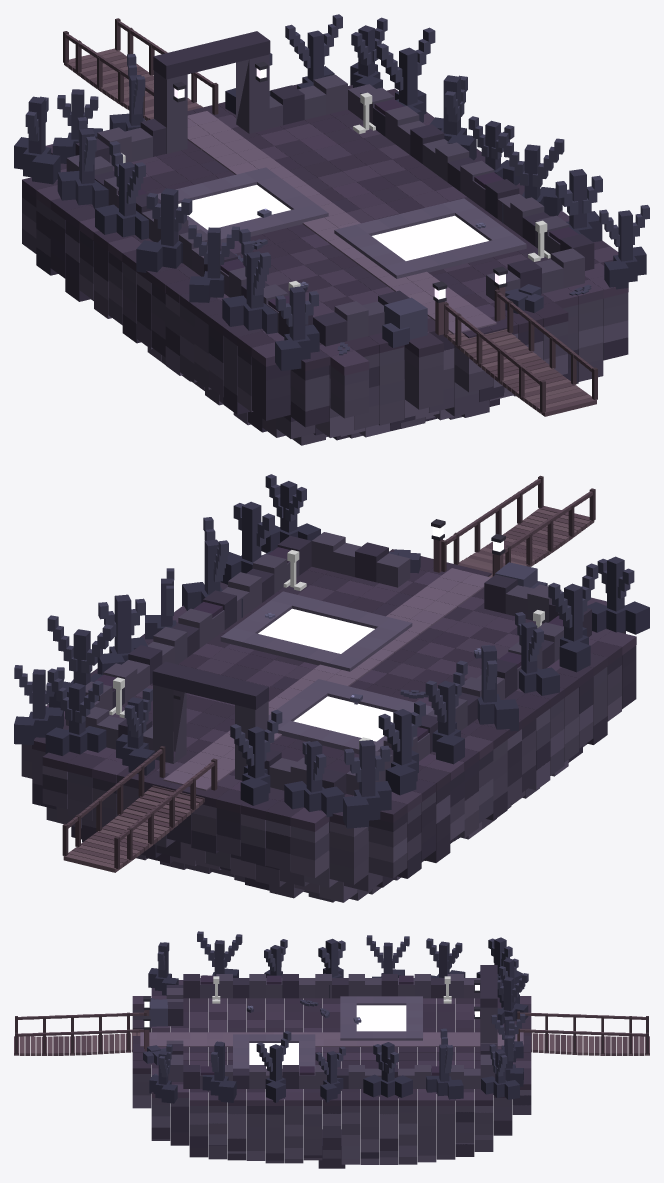
File: room_pools_polluted.glb
3 renders of one model, top to bottom at view 1: azimuth 30°, elevation 25°; view 2: azimuth 150°, elevation 25°; view 3: azimuth 270°, elevation 25°, orthographic. The views are drawn at different scales.
Parts seen in each view (by area): view 1: room_pools_blocks, tree2_(0, 0).001, tree0_(0, 0).002, tree2_(0, 0).002, tree0_(0, 0).001, tree1_(0, 0).001, tree5_(0, 0).001, tree0_(0, 0).003, tree5_(0, 0).002, tree4_(0, 0).002, tree4_(0, 0).001, tree3_(0, 0).001 (+8 smaller); view 2: room_pools_blocks, tree5_(0, 0).003, tree0_(0, 0).003, tree2_(0, 0).001, tree0_(0, 0).001, tree4_(0, 0).002, tree2_(0, 0).003, tree2_(0, 0).002, tree1_(0, 0).003, tree0_(0, 0).004, tree5_(0, 0).002, tree3_(0, 0).002 (+8 smaller); view 3: room_pools_blocks, tree3_(0, 0).002, tree5_(0, 0).001, tree5_(0, 0).002, tree3_(0, 0).001, tree1_(0, 0).003, tree2_(0, 0).003, tree1_(0, 0).002, tree2_(0, 0).001, tree1_(0, 0).001, tree2_(0, 0).002, tree4_(0, 0).002 (+8 smaller).
Boxes of the visible parts, <box> form: room_pools_blocks: <box>22,18,628,445</box>; tree2_(0, 0).001: <box>222,228,277,334</box>; tree0_(0, 0).002: <box>136,188,192,272</box>; tree2_(0, 0).002: <box>95,141,148,239</box>; tree0_(0, 0).001: <box>275,286,319,370</box>; tree1_(0, 0).001: <box>599,205,649,289</box>; tree5_(0, 0).001: <box>498,132,564,223</box>; tree0_(0, 0).003: <box>14,96,60,184</box>; tree5_(0, 0).002: <box>376,27,435,122</box>; tree4_(0, 0).002: <box>57,117,108,209</box>; tree4_(0, 0).001: <box>188,225,239,302</box>; tree3_(0, 0).001: <box>555,169,602,241</box>; room_pools_blocks: <box>21,475,636,902</box>; tree5_(0, 0).003: <box>45,668,106,755</box>; tree0_(0, 0).003: <box>343,740,391,828</box>; tree2_(0, 0).001: <box>548,563,598,672</box>; tree0_(0, 0).001: <box>587,556,649,634</box>; tree4_(0, 0).002: <box>378,701,425,795</box>; tree2_(0, 0).003: <box>230,709,282,805</box>; tree2_(0, 0).002: <box>425,660,467,764</box>; tree1_(0, 0).003: <box>14,665,64,744</box>; tree0_(0, 0).004: <box>284,741,344,817</box>; tree5_(0, 0).002: <box>47,615,113,711</box>; tree3_(0, 0).002: <box>97,594,147,674</box>; room_pools_blocks: <box>14,965,649,1168</box>; tree3_(0, 0).002: <box>363,1042,412,1097</box>; tree5_(0, 0).001: <box>256,1031,291,1102</box>; tree5_(0, 0).002: <box>426,1028,463,1100</box>; tree3_(0, 0).001: <box>202,1041,236,1102</box>; tree1_(0, 0).003: <box>481,1044,519,1099</box>; tree2_(0, 0).003: <box>497,973,528,1025</box>; tree1_(0, 0).002: <box>315,1046,345,1102</box>; tree2_(0, 0).001: <box>197,931,242,977</box>; tree1_(0, 0).001: <box>149,1044,177,1103</box>; tree2_(0, 0).002: <box>366,935,409,977</box>; tree4_(0, 0).002: <box>426,938,465,977</box>.
Bounding box in the file's own units: 17.77 × 12.1 × 38.5.
